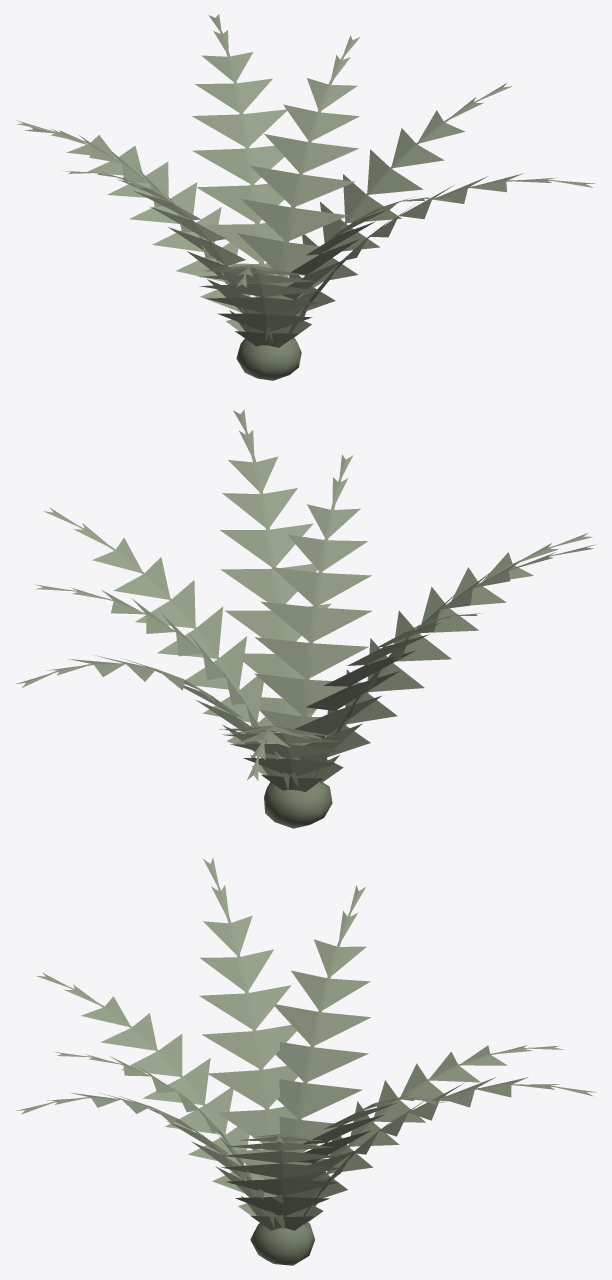
File: fern.glb
3 renders of one model, top to bottom at view 1: azimuth 30°, elevation 25°; view 2: azimuth 150°, elevation 25°; view 3: azimuth 270°, elevation 25°, orthographic. The views are drawn at different scales.
Visible parts, largest first — view 1: Body; view 2: Body; view 3: Body.
Boxes of the visible parts, x1,y1,x2,y2 form: Body: [16, 14, 594, 380]; Body: [15, 409, 595, 828]; Body: [16, 857, 596, 1265].
Size of the model in its own units: 2.03 by 1.18 by 2.17.
